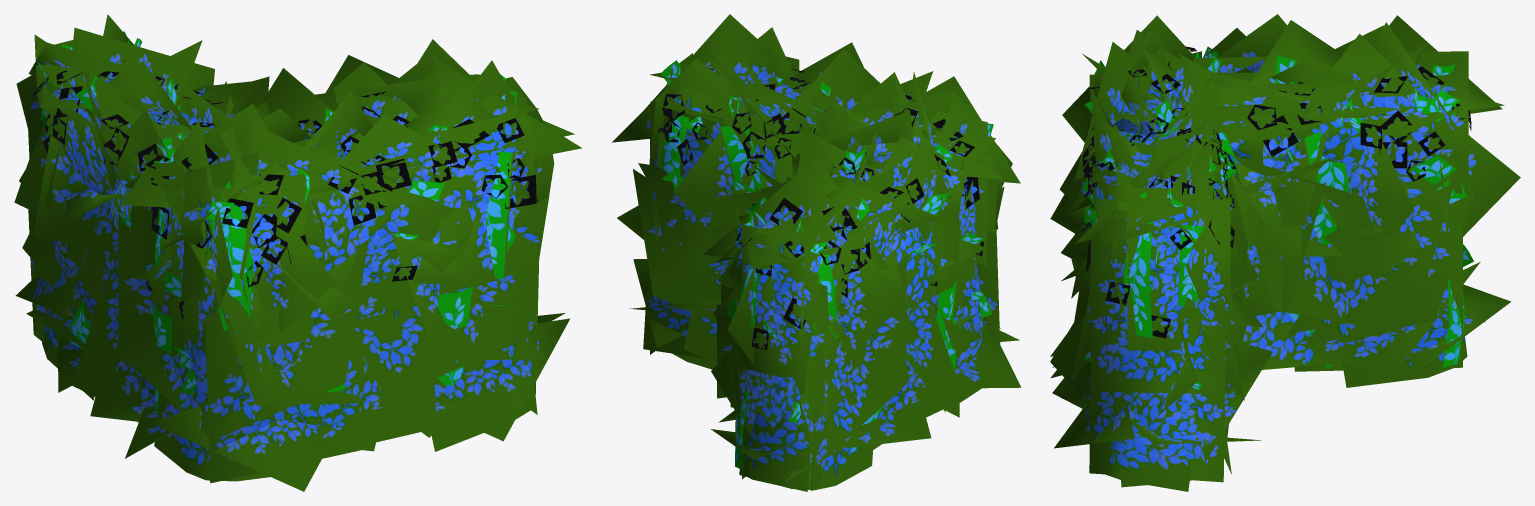
The model's file is Homeworld_Exterior_Common_Flower_Decoration_Greenwall_02_Lod0.fbx.
The picture shows the model from 3 angles, left to right: view 1: azimuth 30°, elevation 25°; view 2: azimuth 150°, elevation 25°; view 3: azimuth 270°, elevation 25°; orthographic projection. The views are drawn at different scales.
Parts seen in each view (by area): view 1: Homeworld_Exterior_Common_Flower_Decoration_Greenwall_02_A_L, Homeworld_Exterior_Common_Flower_Decoration_Greenwall_02_B_L; view 2: Homeworld_Exterior_Common_Flower_Decoration_Greenwall_02_A_L, Homeworld_Exterior_Common_Flower_Decoration_Greenwall_02_B_L; view 3: Homeworld_Exterior_Common_Flower_Decoration_Greenwall_02_A_L, Homeworld_Exterior_Common_Flower_Decoration_Greenwall_02_B_L.
Boxes of the visible parts, x1,y1,x2,y2 form: Homeworld_Exterior_Common_Flower_Decoration_Greenwall_02_A_L: (14, 14, 581, 491); Homeworld_Exterior_Common_Flower_Decoration_Greenwall_02_B_L: (33, 60, 538, 318); Homeworld_Exterior_Common_Flower_Decoration_Greenwall_02_A_L: (612, 14, 1021, 491); Homeworld_Exterior_Common_Flower_Decoration_Greenwall_02_B_L: (658, 68, 983, 350); Homeworld_Exterior_Common_Flower_Decoration_Greenwall_02_A_L: (1050, 14, 1520, 491); Homeworld_Exterior_Common_Flower_Decoration_Greenwall_02_B_L: (1078, 46, 1471, 338).
Bounding box in the file's own units: 3.34 × 2.65 × 3.3.
